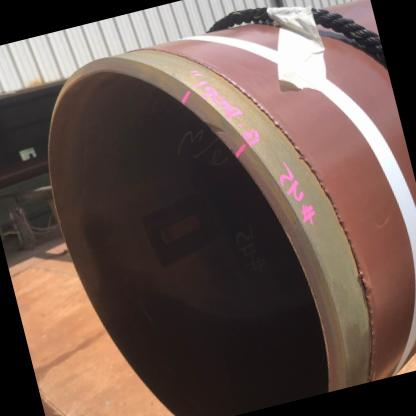Bevel: (193, 101, 232, 149)
